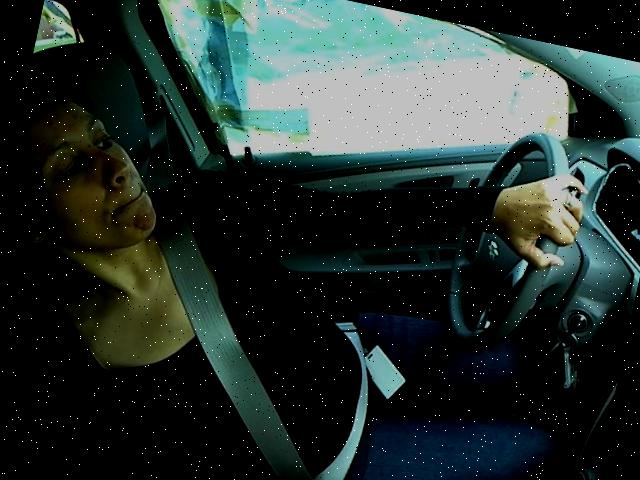c5 - Reaching Behind: (0, 27, 603, 467)
